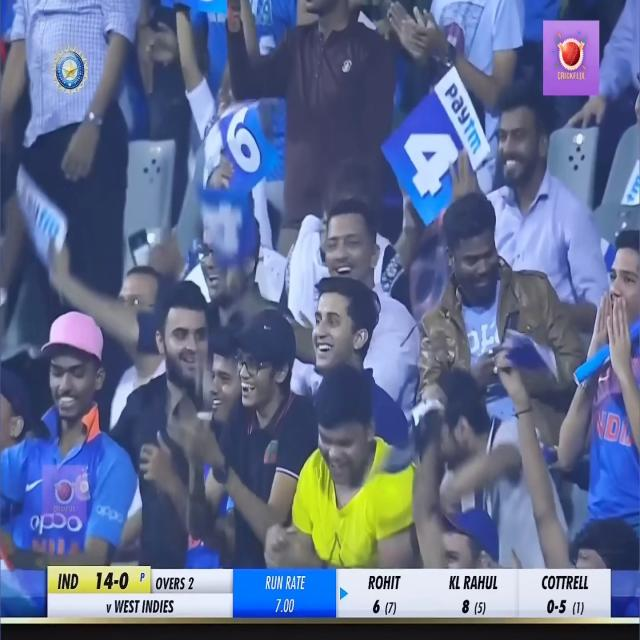fully_visible: (426, 61, 510, 173)
